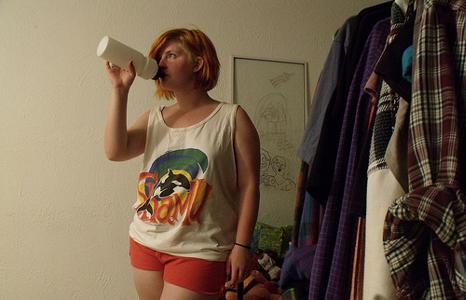person: (103, 27, 262, 300)
